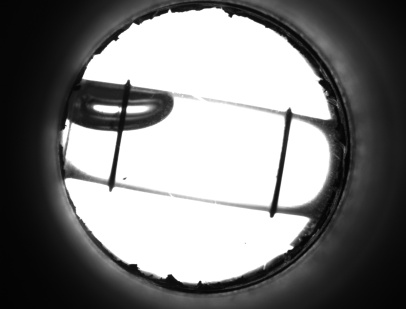line: (265, 128, 294, 199), (107, 139, 125, 175)
